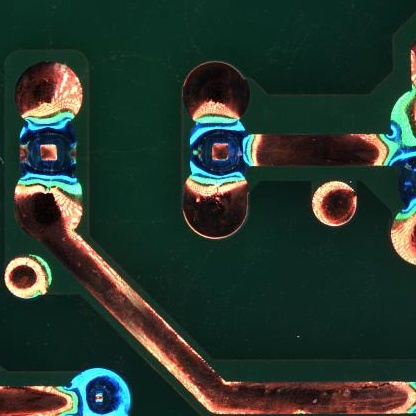spot: (186, 120, 249, 183), (16, 119, 78, 183), (66, 364, 133, 416)
